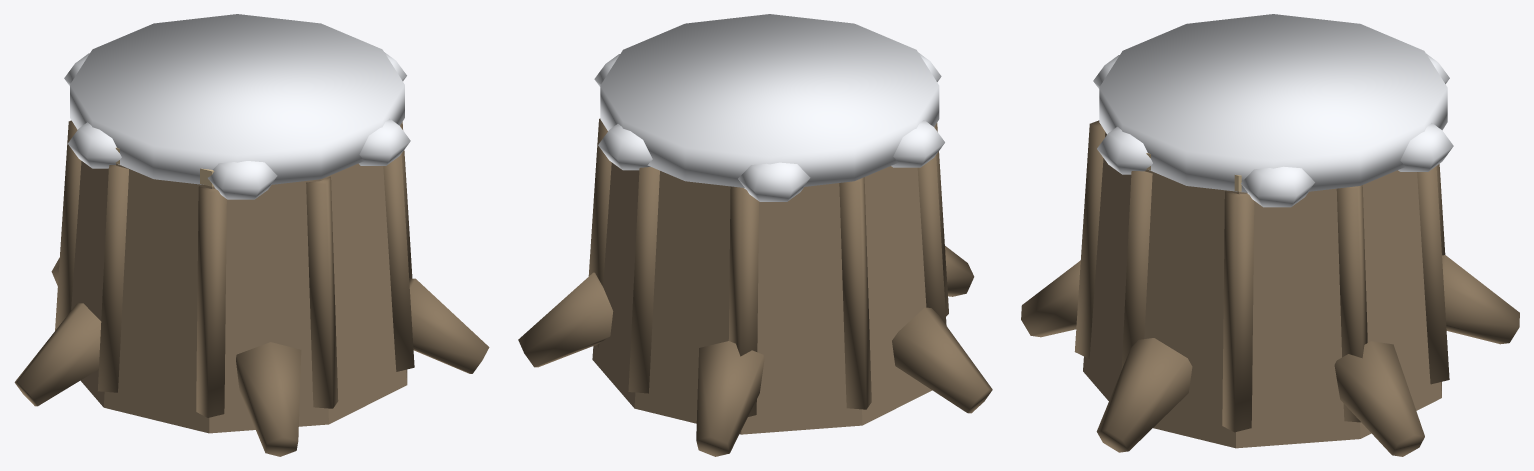
File: seat_06_baumstumpf.glb
3 views of the same model, side by side, from view 1: azimuth 30°, elevation 25°; view 2: azimuth 150°, elevation 25°; view 3: azimuth 270°, elevation 25° (orthographic). The views are drawn at different scales.
Parts seen in each view (by area): view 1: seat_06_baumstumpf; view 2: seat_06_baumstumpf; view 3: seat_06_baumstumpf.
Part boxes in pixels (<box>): seat_06_baumstumpf: <box>14,14,489,456</box>; seat_06_baumstumpf: <box>518,14,992,456</box>; seat_06_baumstumpf: <box>1021,14,1519,456</box>.
Size of the model in its own units: 0.7115 by 0.4616 by 0.7332.
